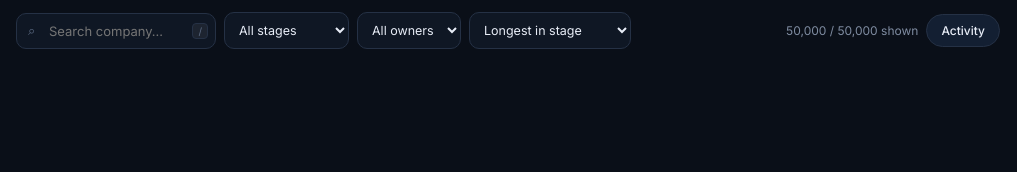
Test: Toolbar: activity panel › is hidden by default and toggles open on click
Expected: the text "No activity yet." is not shown
Step 1. Click the button "Activity" → click(963, 30), box [926, 14, 1000, 47]
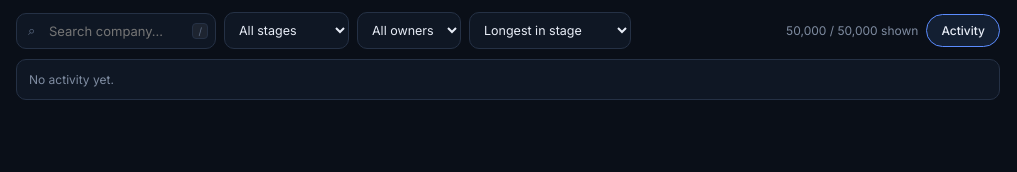
Expected: the text "No activity yet." is shown, [29, 72, 114, 87]
